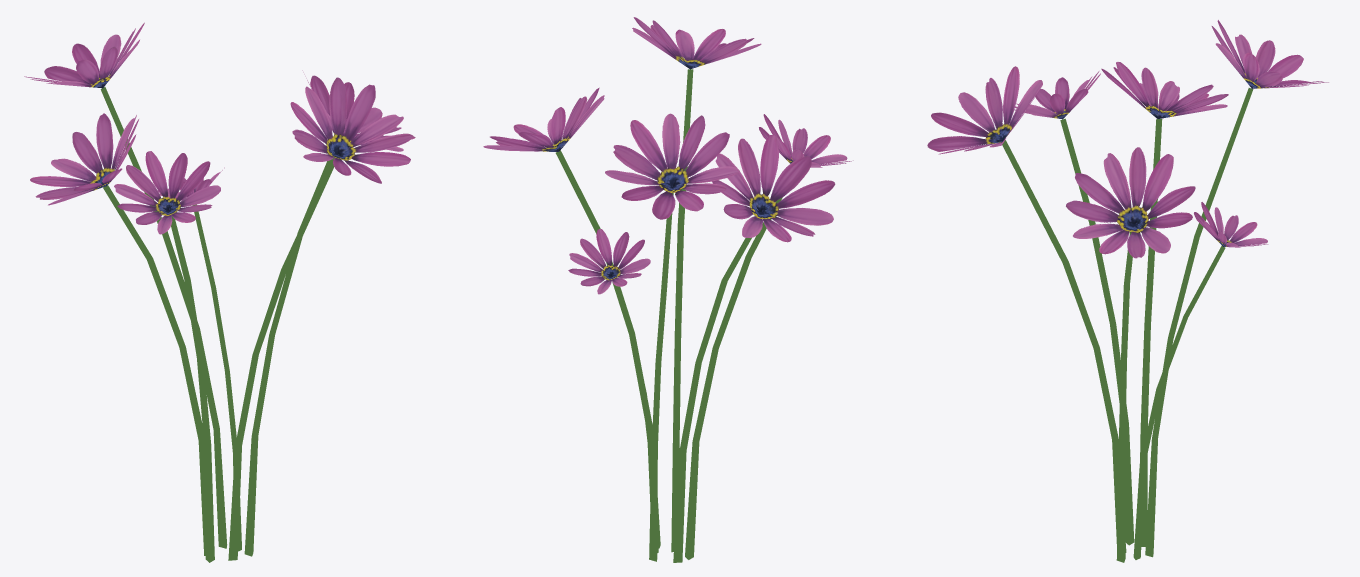
File: MEADOW_SM_Flower_06_02.gltf
The picture shows the model from 3 angles, left to right: view 1: azimuth 30°, elevation 25°; view 2: azimuth 150°, elevation 25°; view 3: azimuth 270°, elevation 25°; orthographic projection. The views are drawn at different scales.
Parts seen in each view (by area): view 1: SM_Flower_06_02_LOD0; view 2: SM_Flower_06_02_LOD0; view 3: SM_Flower_06_02_LOD0.
Boxes of the visible parts, left/top/right/bottom form: SM_Flower_06_02_LOD0: left=24, top=22, right=415, bottom=562; SM_Flower_06_02_LOD0: left=483, top=17, right=853, bottom=562; SM_Flower_06_02_LOD0: left=927, top=20, right=1328, bottom=562.
Bounding box in the file's own units: 0.5226 × 0.6475 × 0.5121.
Materials: 1 (1 with a texture image).
